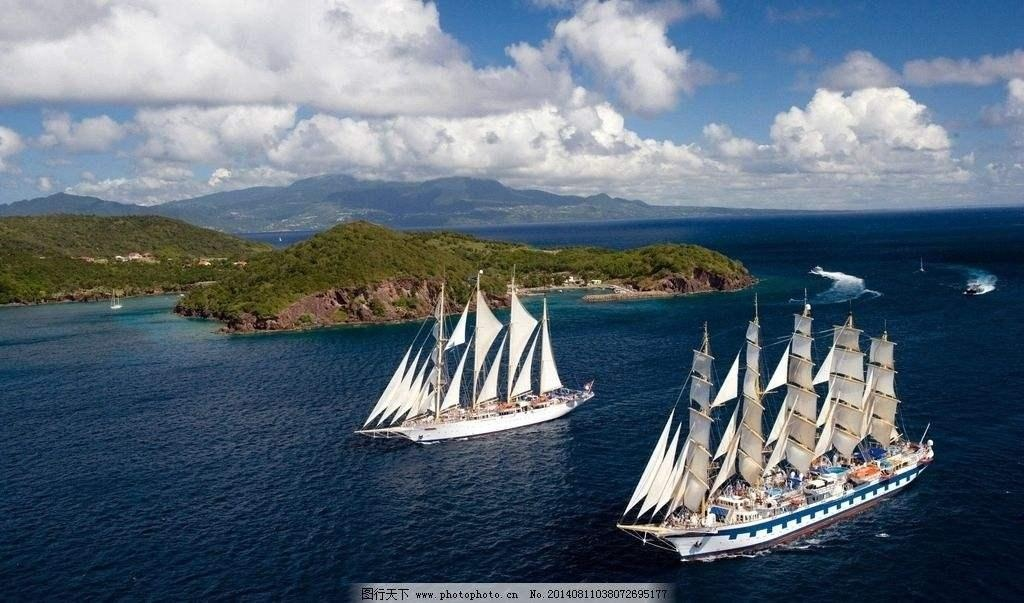fanchuan: (614, 294, 933, 567), (356, 261, 591, 459)
